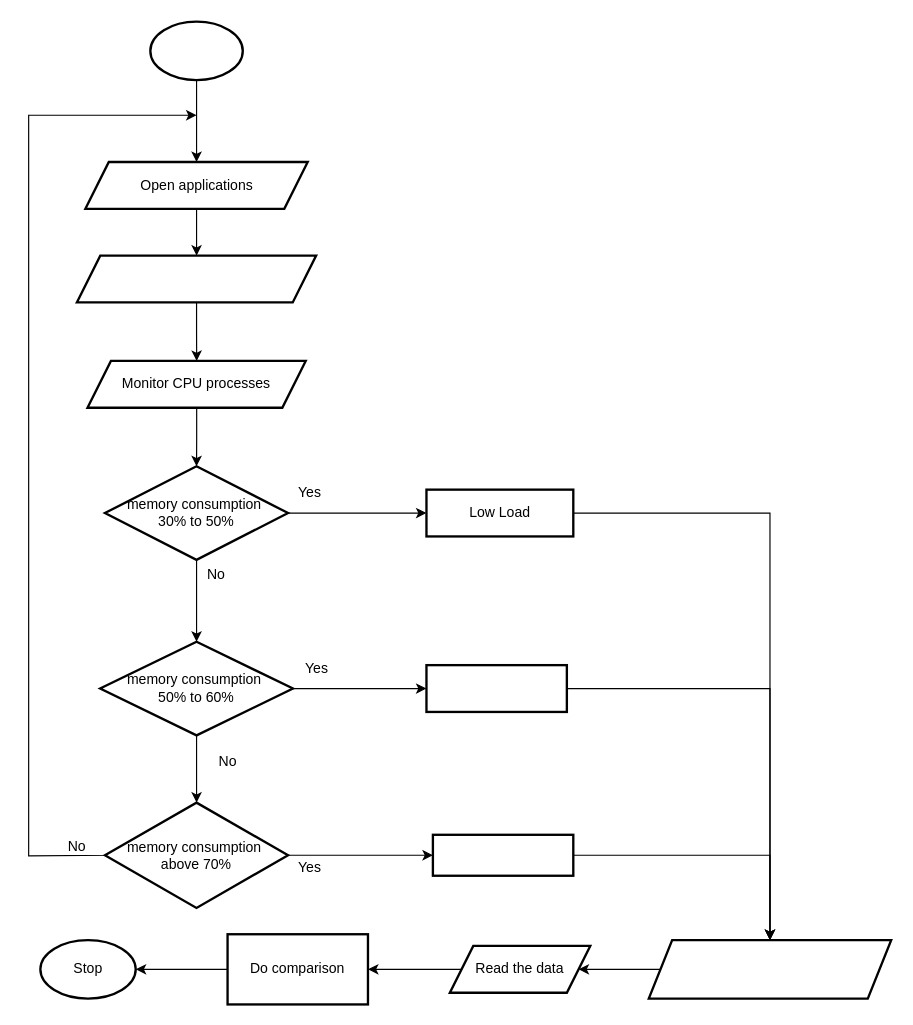
The diagram is 913 pixels wide and 1025 high, and some of its shapes have lost their labels. Each missing label, with the centre of its shape:
High Load: pixel 502 854
Middle Load: pixel 496 688
Observe the CPU Performance: pixel 769 968
Open Window Task Manager: pixel 196 278
Start: pixel 196 50
